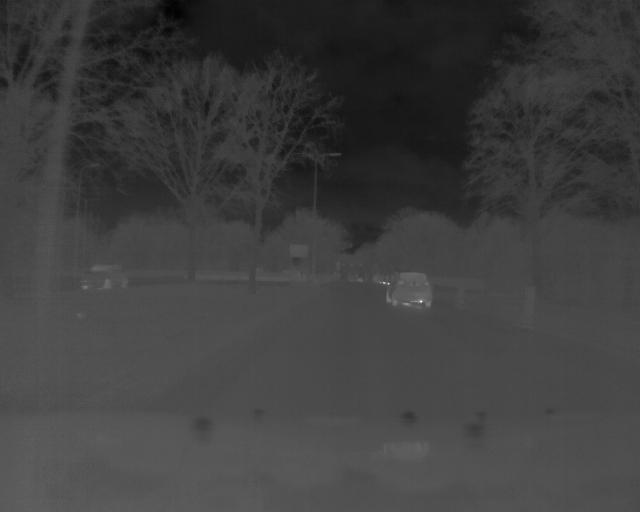car: (384, 272, 434, 311), (82, 260, 130, 292)
